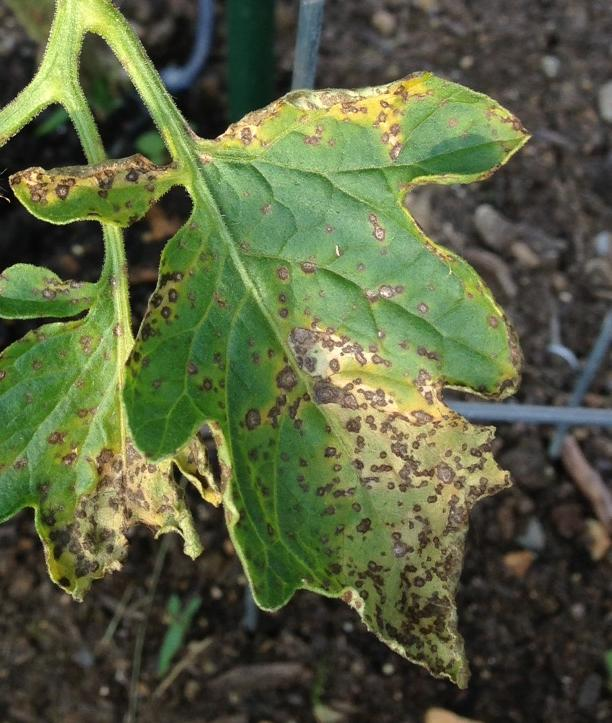Tomato Septoria leaf spot: (7, 56, 542, 708), (0, 254, 257, 616)
